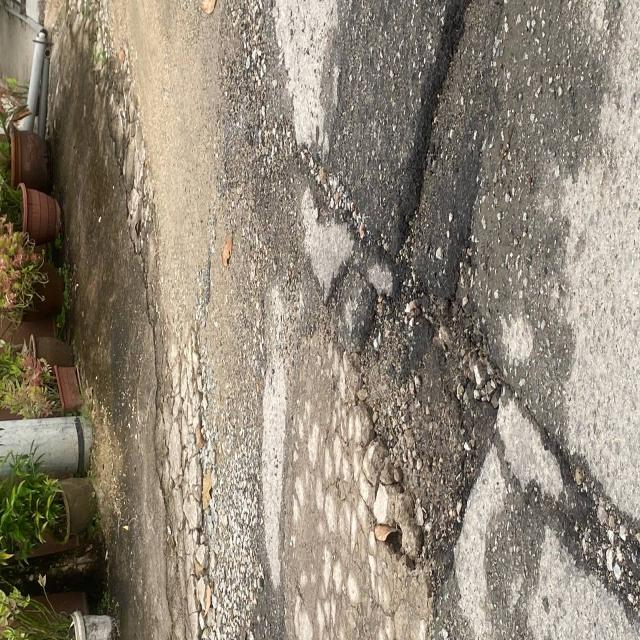pothole: (290, 100, 554, 587)
